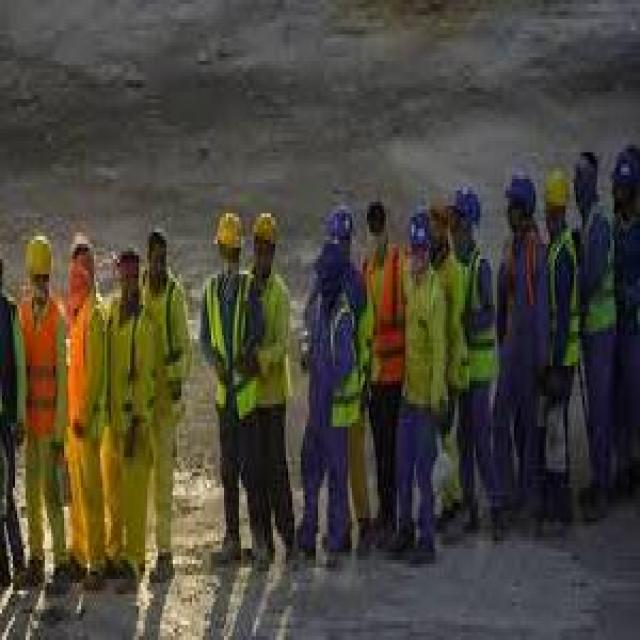Reflective-Jacket: (303, 252, 371, 434), (201, 270, 260, 430), (446, 248, 501, 400), (17, 293, 64, 442), (62, 290, 104, 434), (544, 228, 582, 374)
Safety-Helmet: (21, 224, 58, 286), (316, 194, 358, 248), (501, 160, 540, 217), (444, 179, 484, 229), (214, 206, 248, 263), (403, 202, 438, 255), (64, 221, 98, 274), (608, 141, 640, 194), (542, 164, 574, 217), (250, 202, 284, 251)
